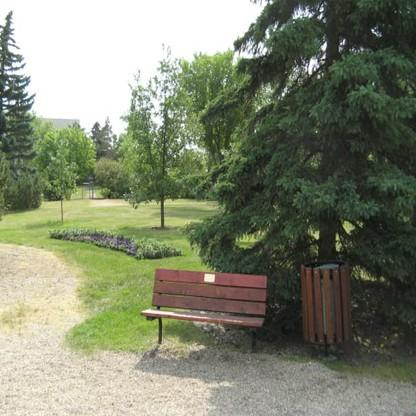obstacle: (130, 256, 279, 353)
